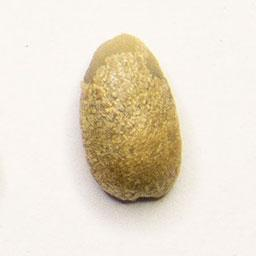longberry: (78, 29, 184, 204)
